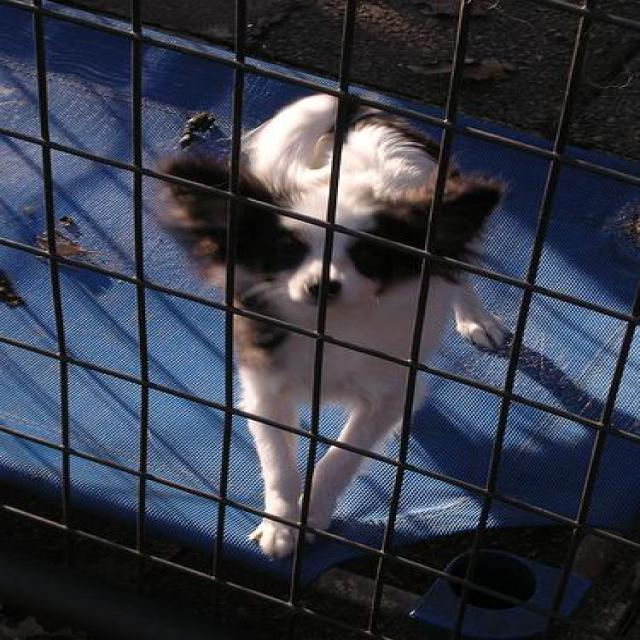papillon: (155, 94, 517, 560)
